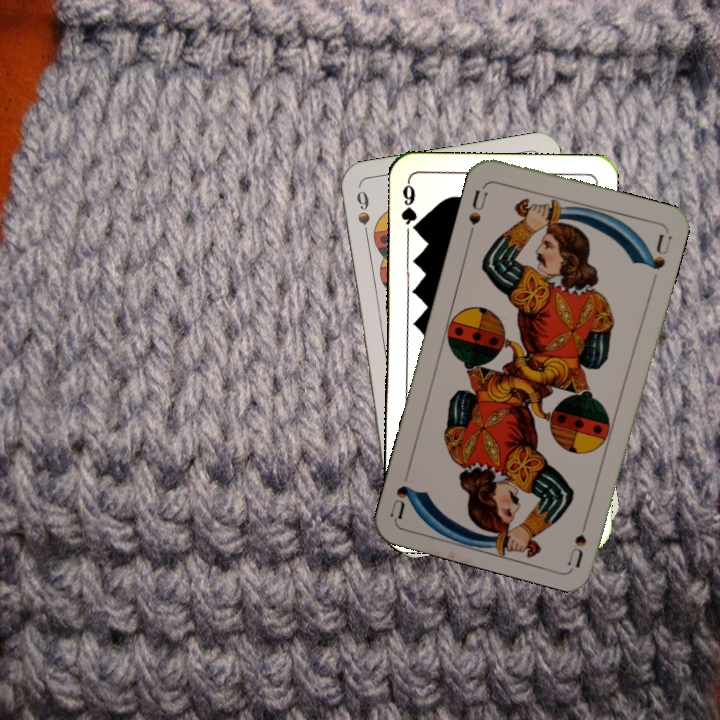G9: (397, 177, 422, 236)
S9: (352, 186, 373, 245)
SU: (564, 508, 592, 568), (464, 185, 490, 238)
